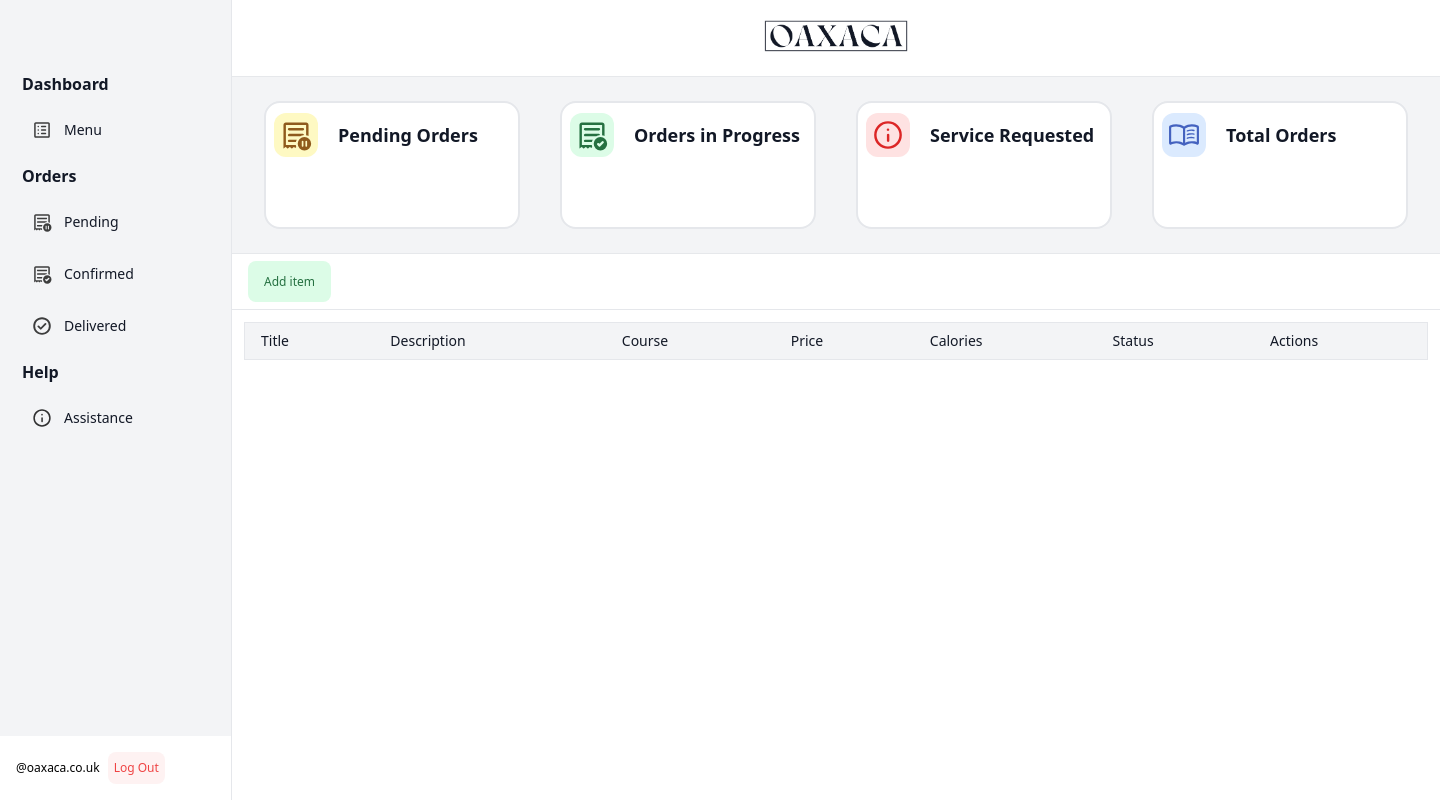
Test case: Test clicking on Confirmed (orders) button › Should navigate to Confirmed orders section and display the correct information of orders
# confirmed button
Click the link "Confirmed": [83, 274] box [32, 264, 134, 284]
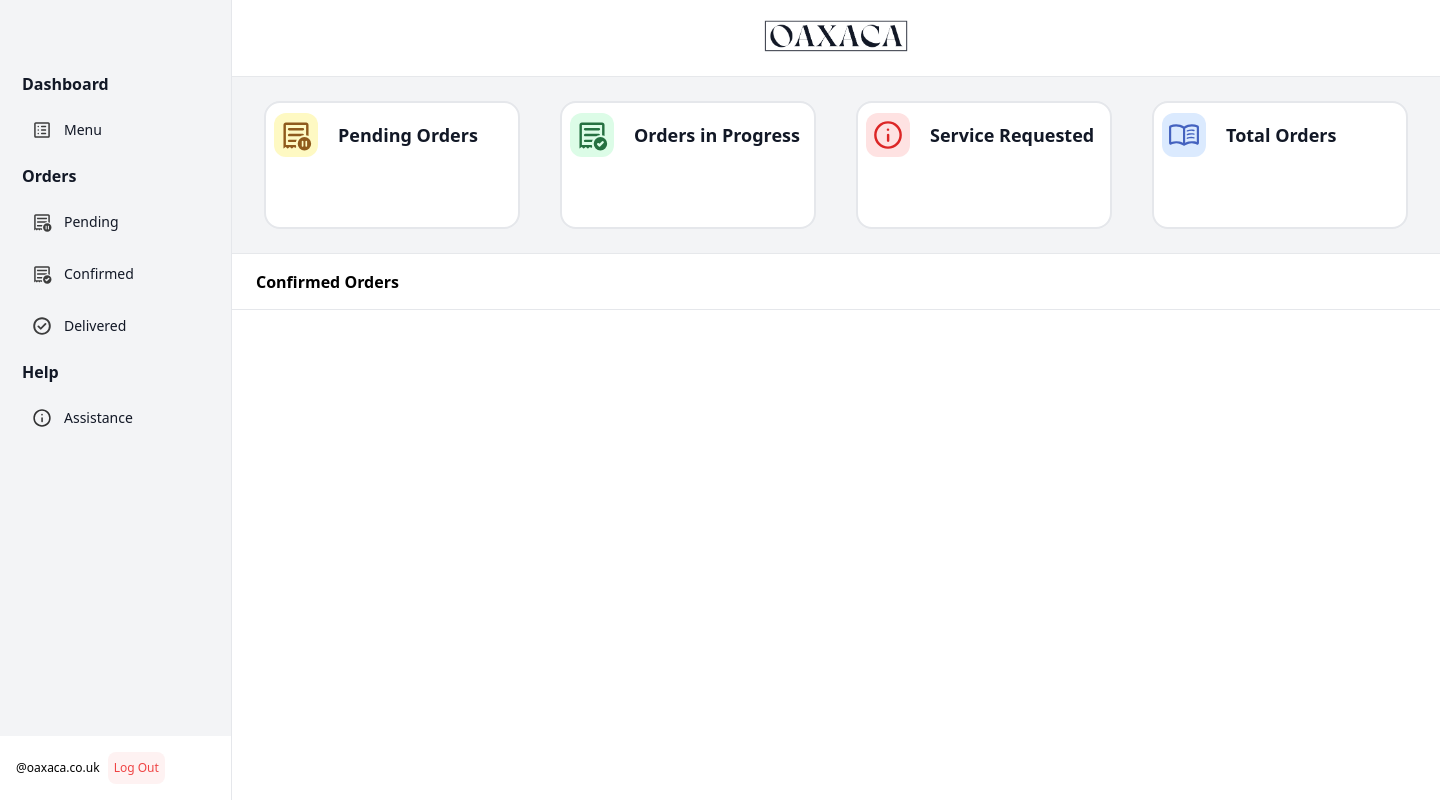
Expected: the heading "Confirmed Orders" is shown, [256, 271, 399, 293]
